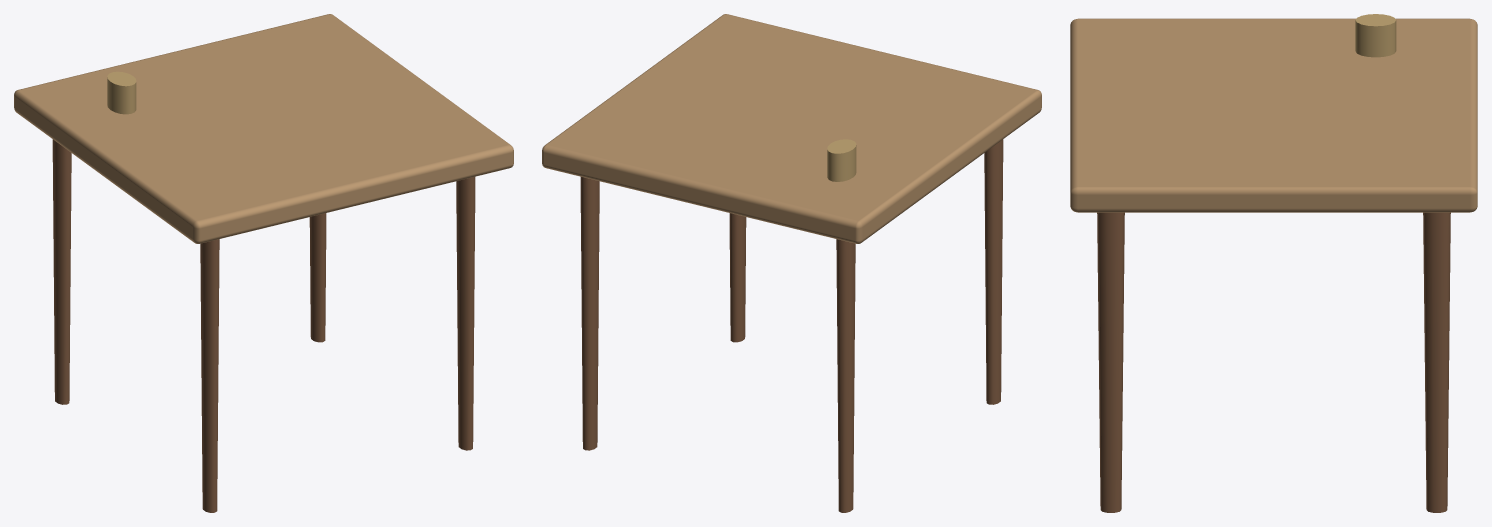
File: desk-5-3.glb
3 renders of one model, left to right at view 1: azimuth 30°, elevation 25°; view 2: azimuth 150°, elevation 25°; view 3: azimuth 270°, elevation 25°, orthographic. The views are drawn at different scales.
Parts seen in each view (by area): view 1: upholstery, part (×2); view 2: upholstery, part (×2); view 3: upholstery, part (×2).
Part boxes in pixels (x1,y1,x2,y2): upholstery: [14, 14, 513, 243]; part (×2): [52, 71, 475, 512]; upholstery: [542, 14, 1041, 243]; part (×2): [580, 139, 1003, 512]; upholstery: [1070, 18, 1477, 212]; part (×2): [1097, 14, 1450, 512].
Size of the model in its own units: 1 by 1 by 1.
